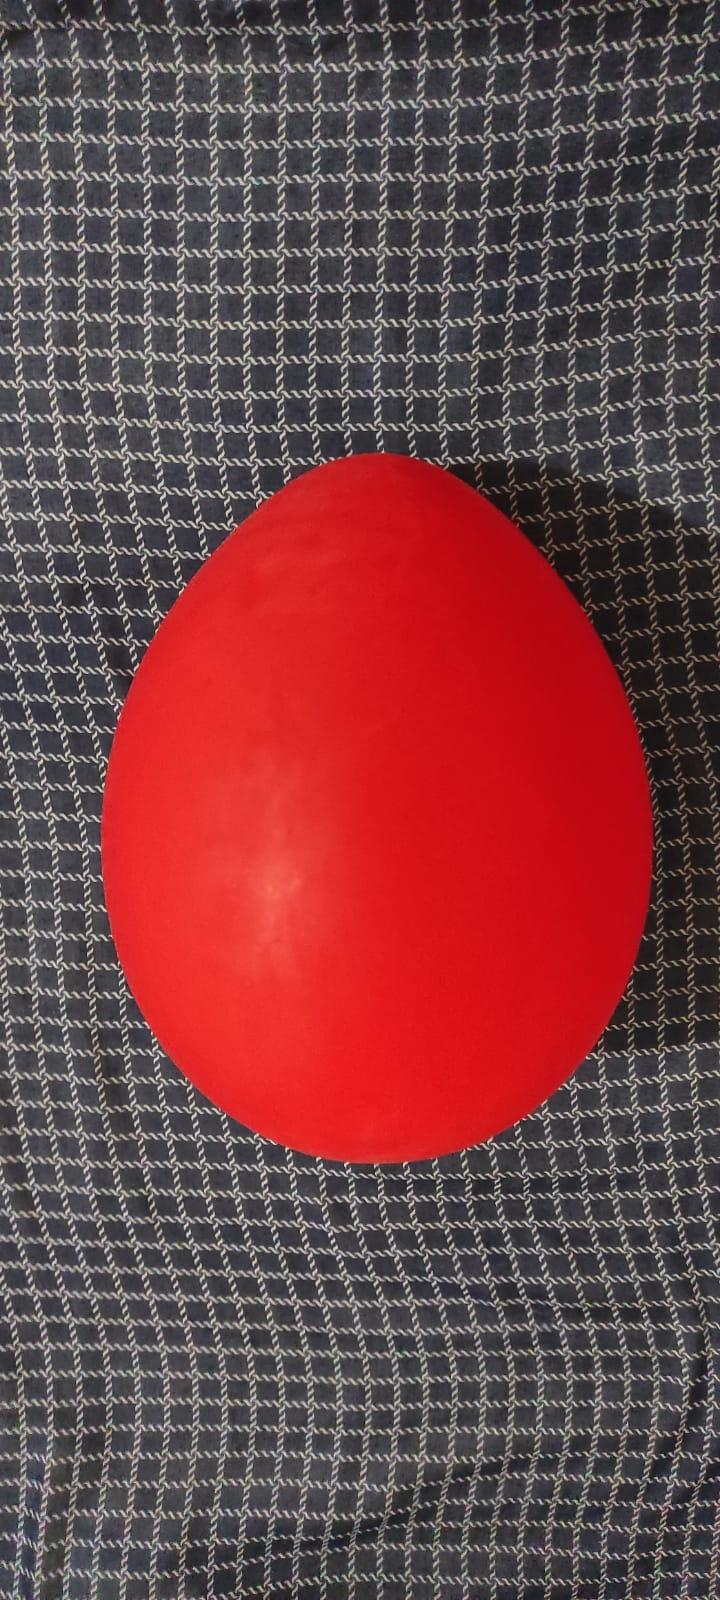red: (91, 428, 666, 1167)
